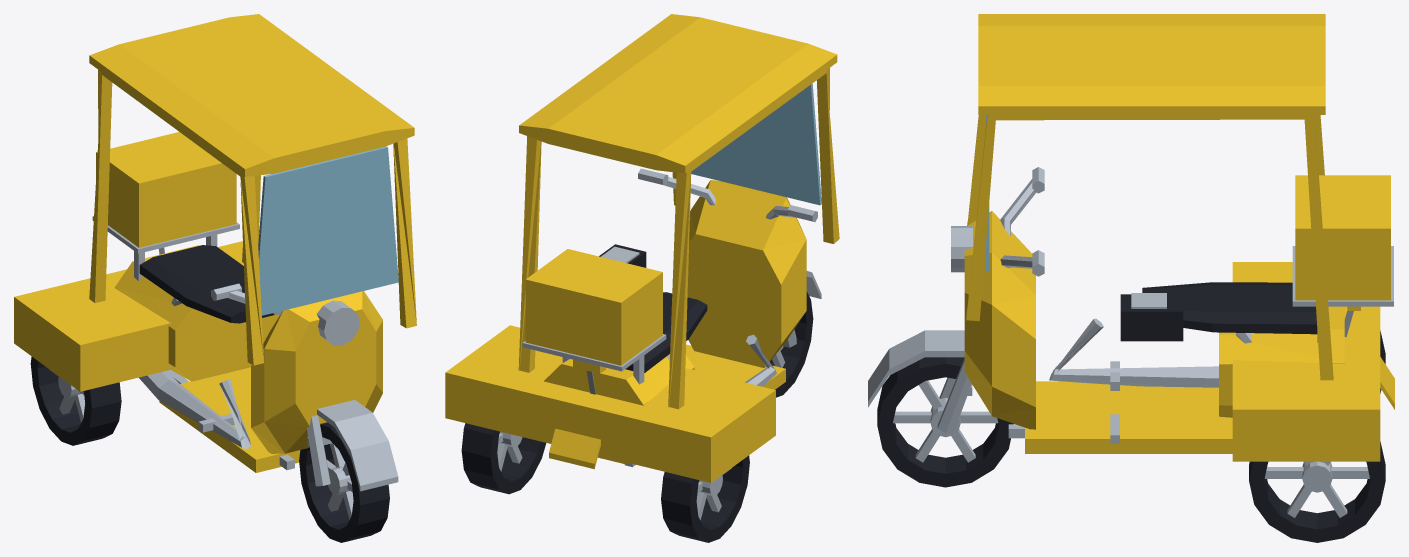
The model's file is parking-trike.glb.
3 renders of one model, left to right at view 1: azimuth 30°, elevation 25°; view 2: azimuth 150°, elevation 25°; view 3: azimuth 270°, elevation 25°, orthographic. The views are drawn at different scales.
Parts seen in each view (by area): view 1: bike_body, wheel_front, fork_mesh, wheel_rear_r; view 2: bike_body, wheel_rear_r, wheel_rear_l, fork_mesh, wheel_front; view 3: bike_body, wheel_front, wheel_rear_l, fork_mesh.
Boxes of the visible parts, x1,y1,x2,y2 form: bike_body: [14, 14, 416, 472]; wheel_front: [299, 422, 389, 542]; fork_mesh: [211, 283, 398, 491]; wheel_rear_r: [30, 356, 121, 445]; bike_body: [445, 14, 839, 482]; wheel_rear_r: [661, 455, 749, 542]; wheel_rear_l: [461, 423, 546, 494]; fork_mesh: [638, 168, 821, 347]; wheel_front: [770, 291, 813, 397]; bike_body: [951, 14, 1394, 461]; wheel_front: [877, 357, 1013, 487]; wheel_rear_l: [1249, 441, 1385, 542]; fork_mesh: [868, 167, 1044, 433].
Size of the model in its own units: 1.28 by 1.71 by 1.93.
